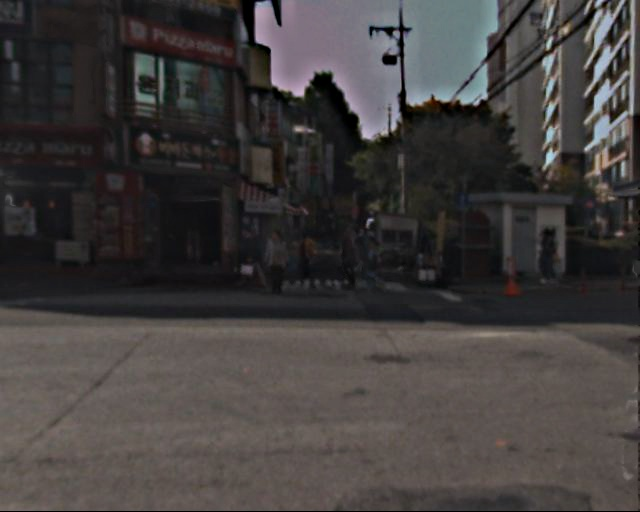person: (240, 227, 268, 295), (341, 229, 368, 294), (537, 229, 563, 293), (266, 232, 292, 295), (298, 233, 318, 282), (361, 224, 382, 270), (366, 248, 386, 296), (331, 223, 345, 257)
